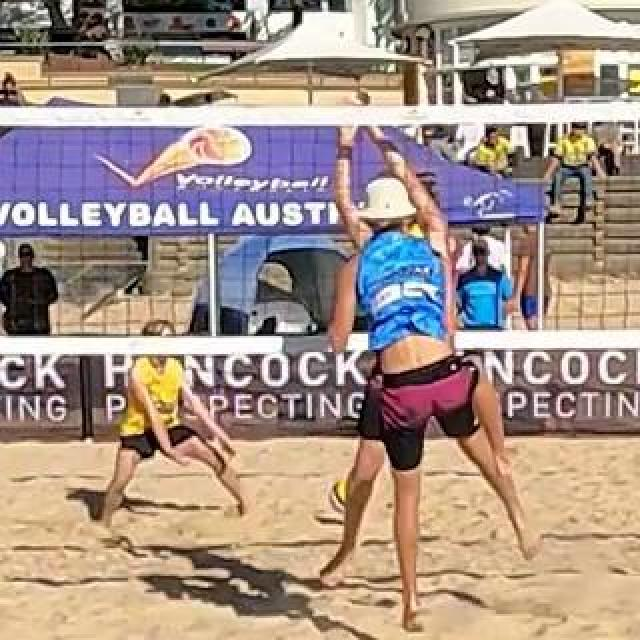volleyball: (329, 478, 371, 514)
